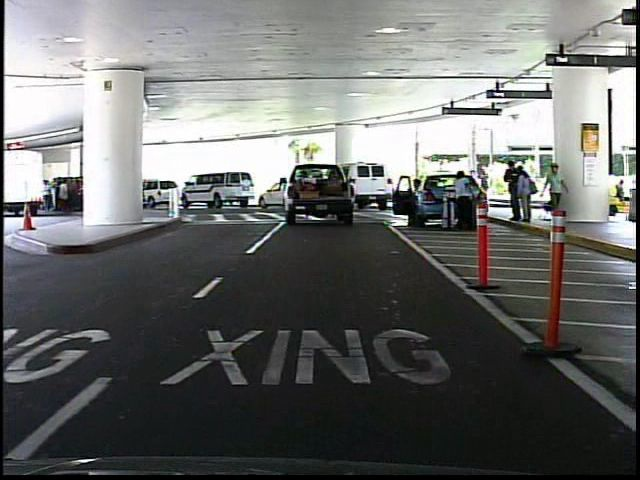person: (447, 165, 477, 234), (541, 159, 566, 226)
